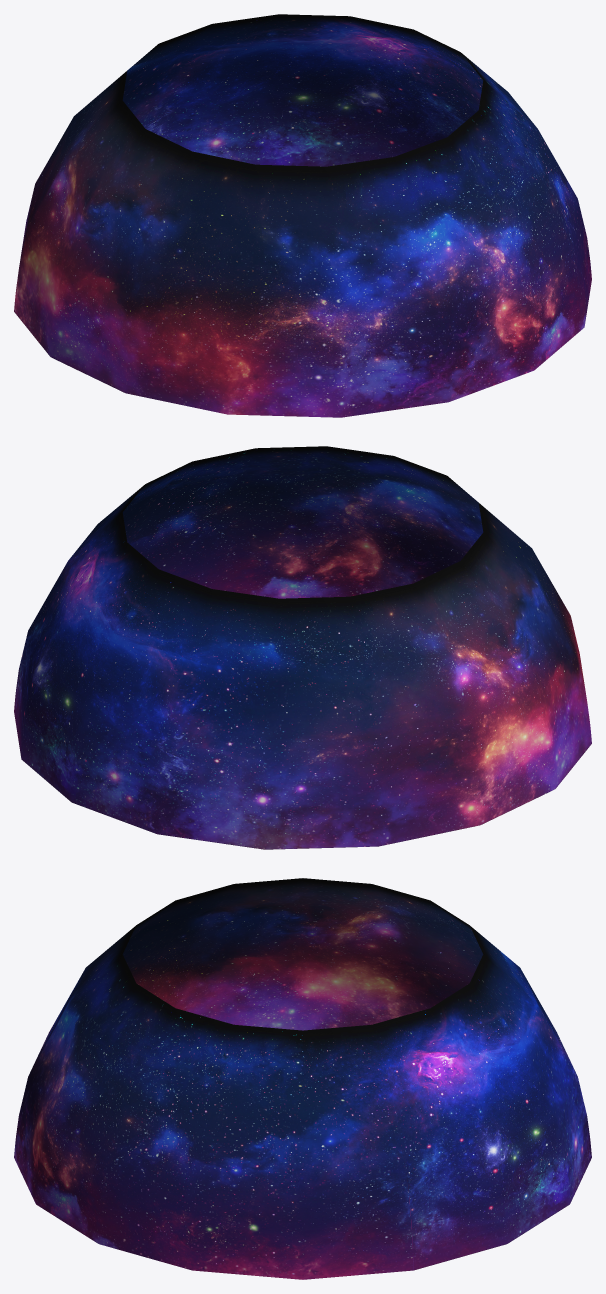
File: EventSkyFX_S8.fbx
The picture shows the model from 3 angles, top to bottom: view 1: azimuth 30°, elevation 25°; view 2: azimuth 150°, elevation 25°; view 3: azimuth 270°, elevation 25°; orthographic projection.
Parts seen in each view (by area): view 1: dome; view 2: dome; view 3: dome.
Part boxes in pixels (box(x1,y1,x2,y2)): dome: box(14, 14, 591, 417); dome: box(14, 446, 591, 849); dome: box(14, 878, 591, 1279).
Bounding box in the file's own units: 598 × 232 × 598.
1 material, 1 textured.
